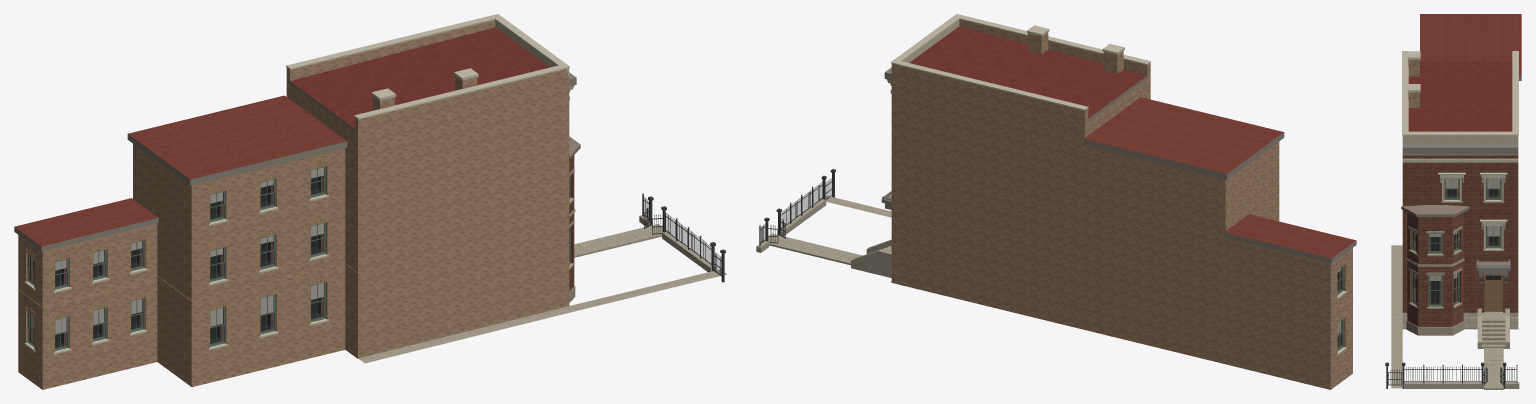
Rendered from house_1708_prairie__as_mapped_1904.glb.
The picture shows the model from 3 angles, left to right: view 1: azimuth 30°, elevation 25°; view 2: azimuth 150°, elevation 25°; view 3: azimuth 270°, elevation 25°; orthographic projection. The views are drawn at different scales.
Parts seen in each view (by area): view 1: house_1708_prairie__as_mapped_1904; view 2: house_1708_prairie__as_mapped_1904; view 3: house_1708_prairie__as_mapped_1904.
Part boxes in pixels (bbox=[...]): house_1708_prairie__as_mapped_1904: bbox=[14, 14, 726, 389]; house_1708_prairie__as_mapped_1904: bbox=[756, 14, 1356, 389]; house_1708_prairie__as_mapped_1904: bbox=[1385, 14, 1521, 389].
Size of the model in its own units: 38.37 by 14.77 by 8.81.
Materials: 25 (14 with a texture image).
